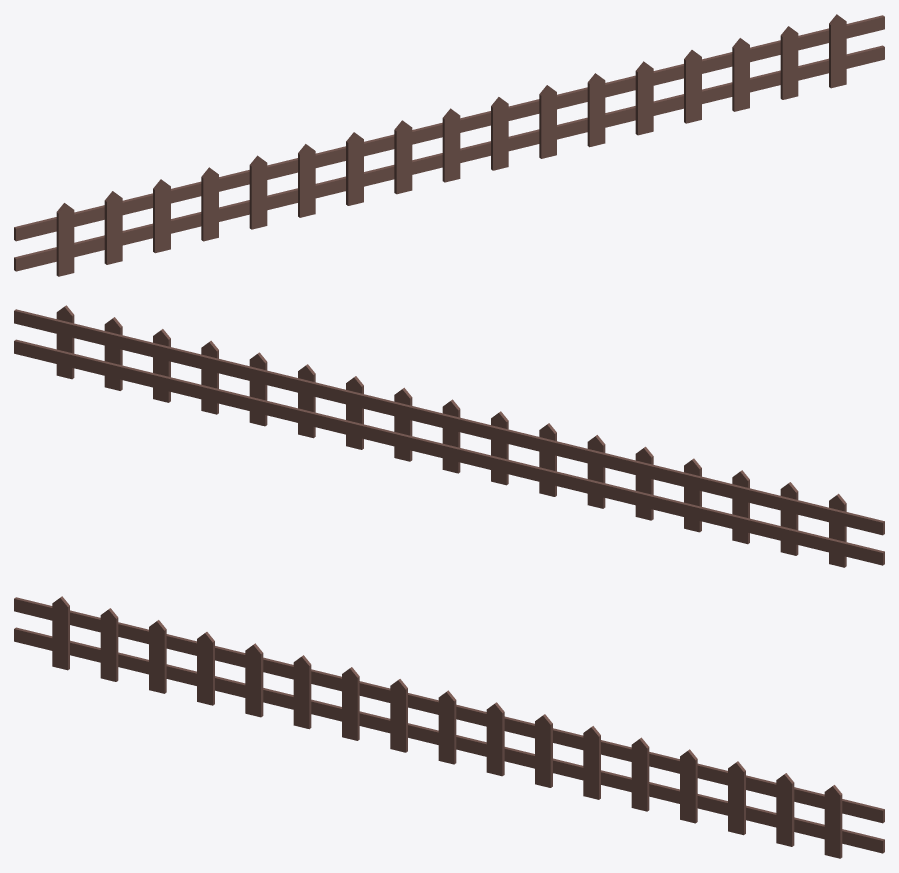
Rendered from Fence_Long.fbx.
3 views of the same model, one above another, from view 1: azimuth 30°, elevation 25°; view 2: azimuth 150°, elevation 25°; view 3: azimuth 330°, elevation 25° (orthographic).
Parts seen in each view (by area): view 1: Fence_Long; view 2: Fence_Long; view 3: Fence_Long.
Part boxes in pixels (x1,y1,x2,y2): Fence_Long: [14, 14, 884, 276]; Fence_Long: [14, 305, 884, 567]; Fence_Long: [14, 596, 884, 858].
Size of the model in its own units: 1800 by 140 by 15.
